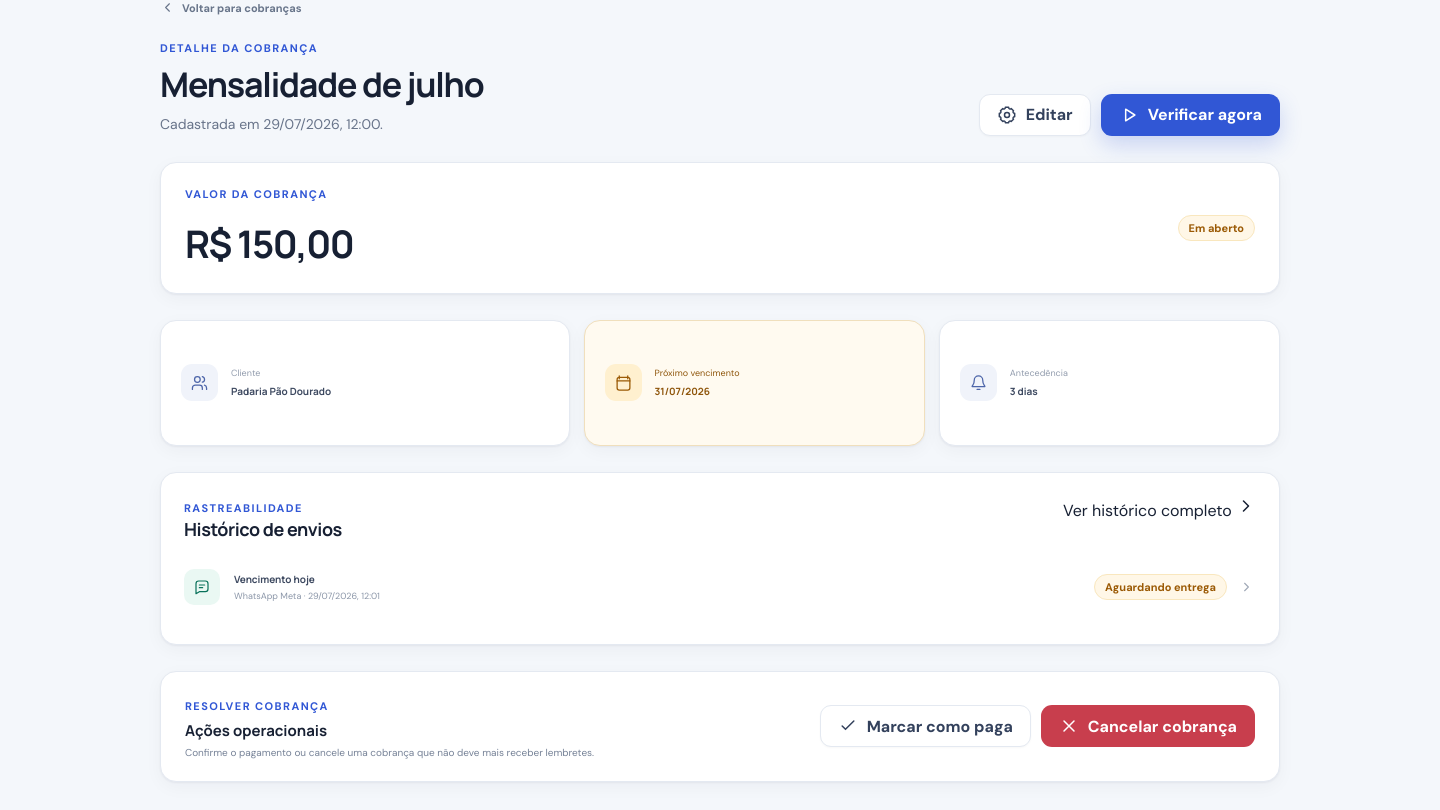
Scenario: confirma a verificação assíncrona e o pagamento
Expected: the link "Padaria Pão Dourado" is shown, [231,384,331,398]
Expected: the heading "Histórico de envios" is shown, [184,517,342,541]
Click the button "Verificar agora". click: x=1190, y=115
box: [1101,94,1280,136]
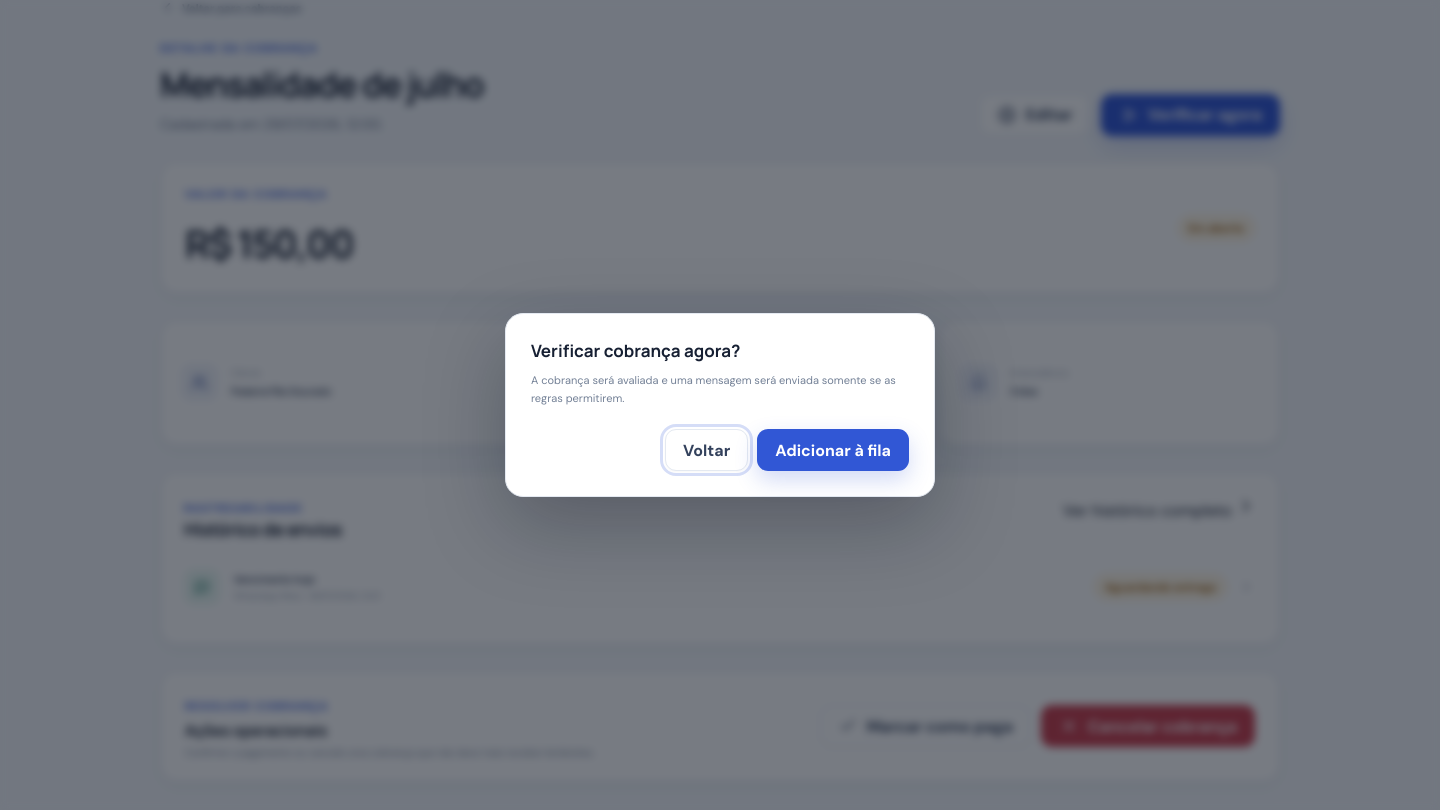
Now the dialog is shown, box [505,313,935,497]
Click the button "Adicionar à fila". click: x=833, y=450
box: [757,429,909,471]
(page scrolled)
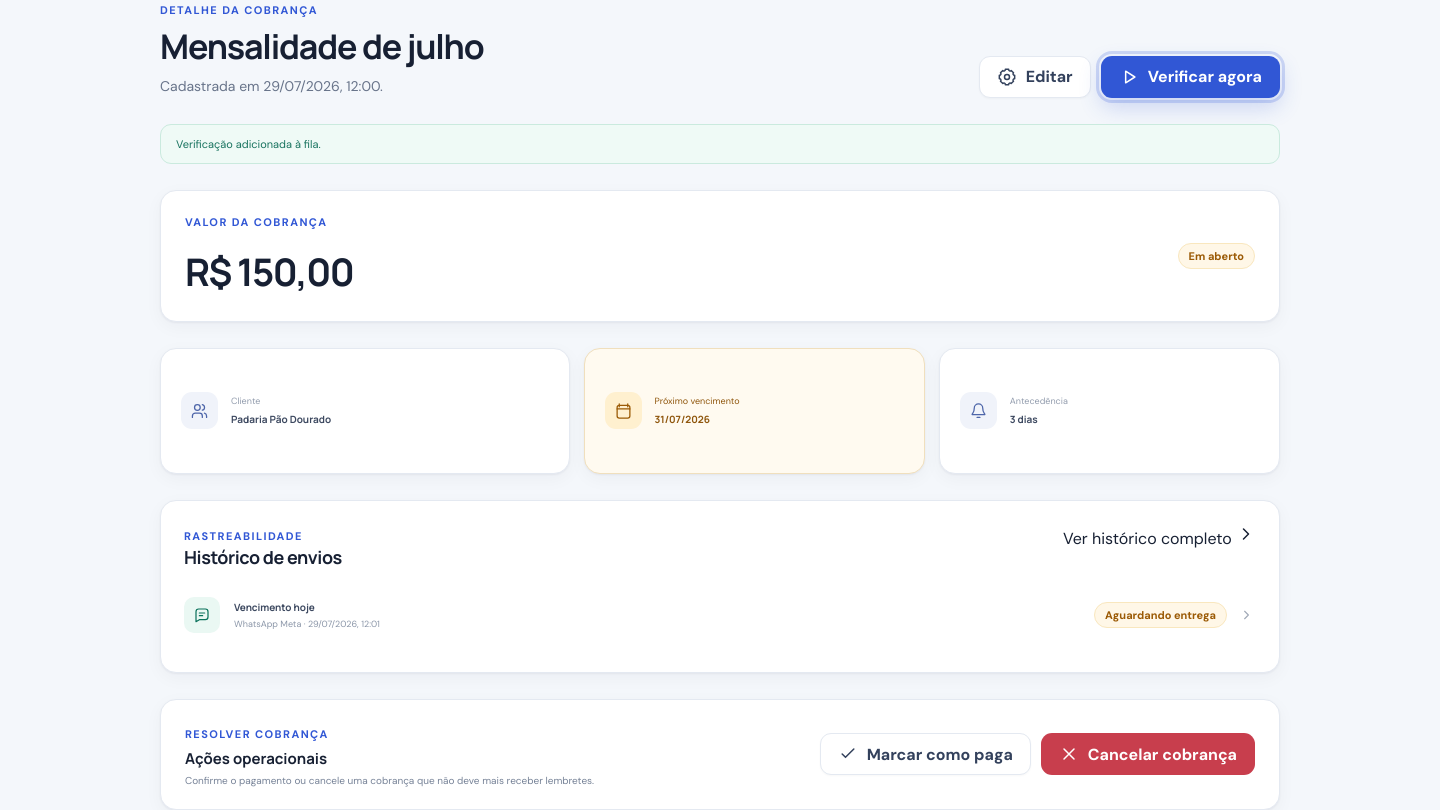
Now the text "Verificação adicionada à fila." is shown, box [160,124,1280,164]
Click the button "Marcar como paga". click: x=925, y=754
box: [820,733,1031,775]
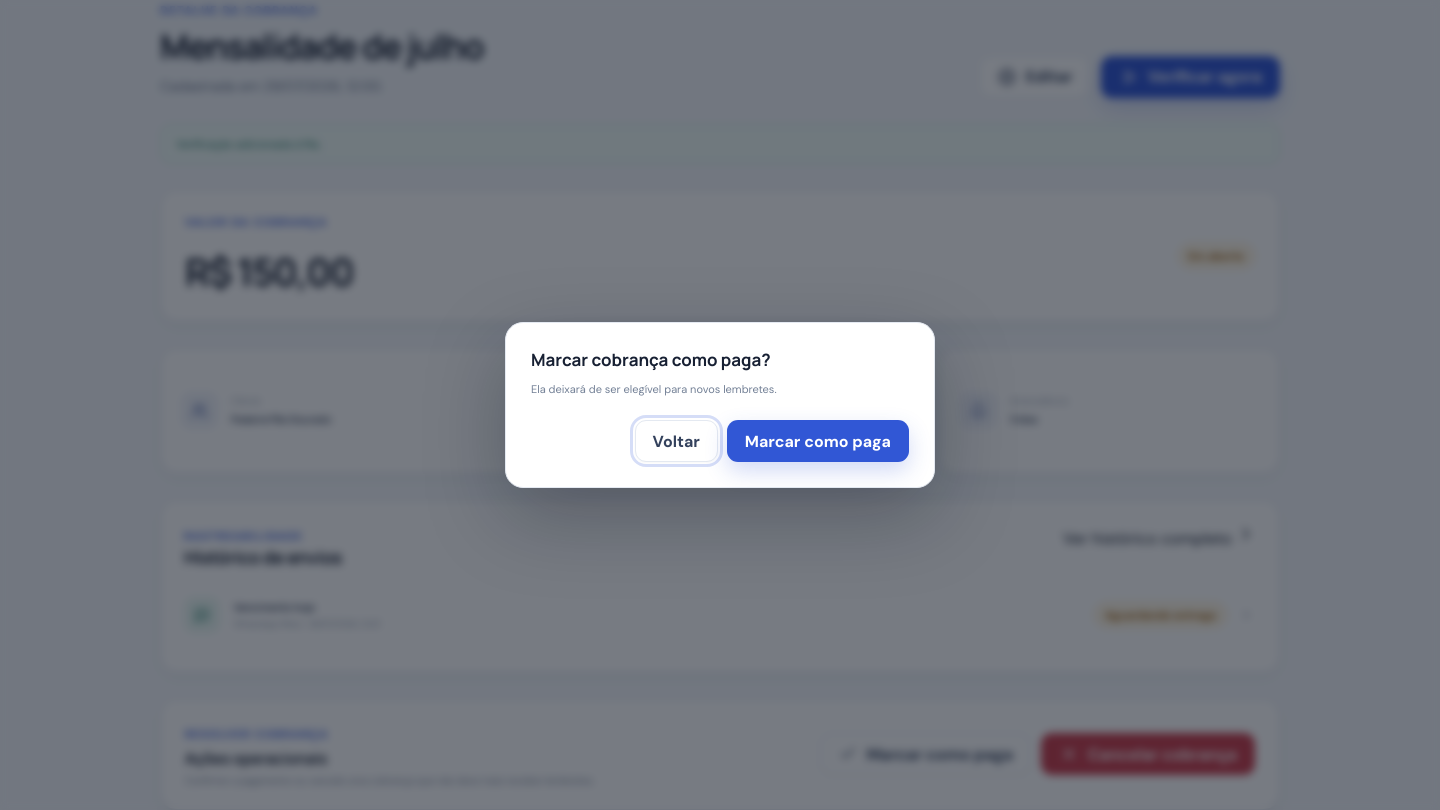
Click the button "Marcar como paga". click: x=818, y=441
box: [727,420,909,462]
(page scrolled)
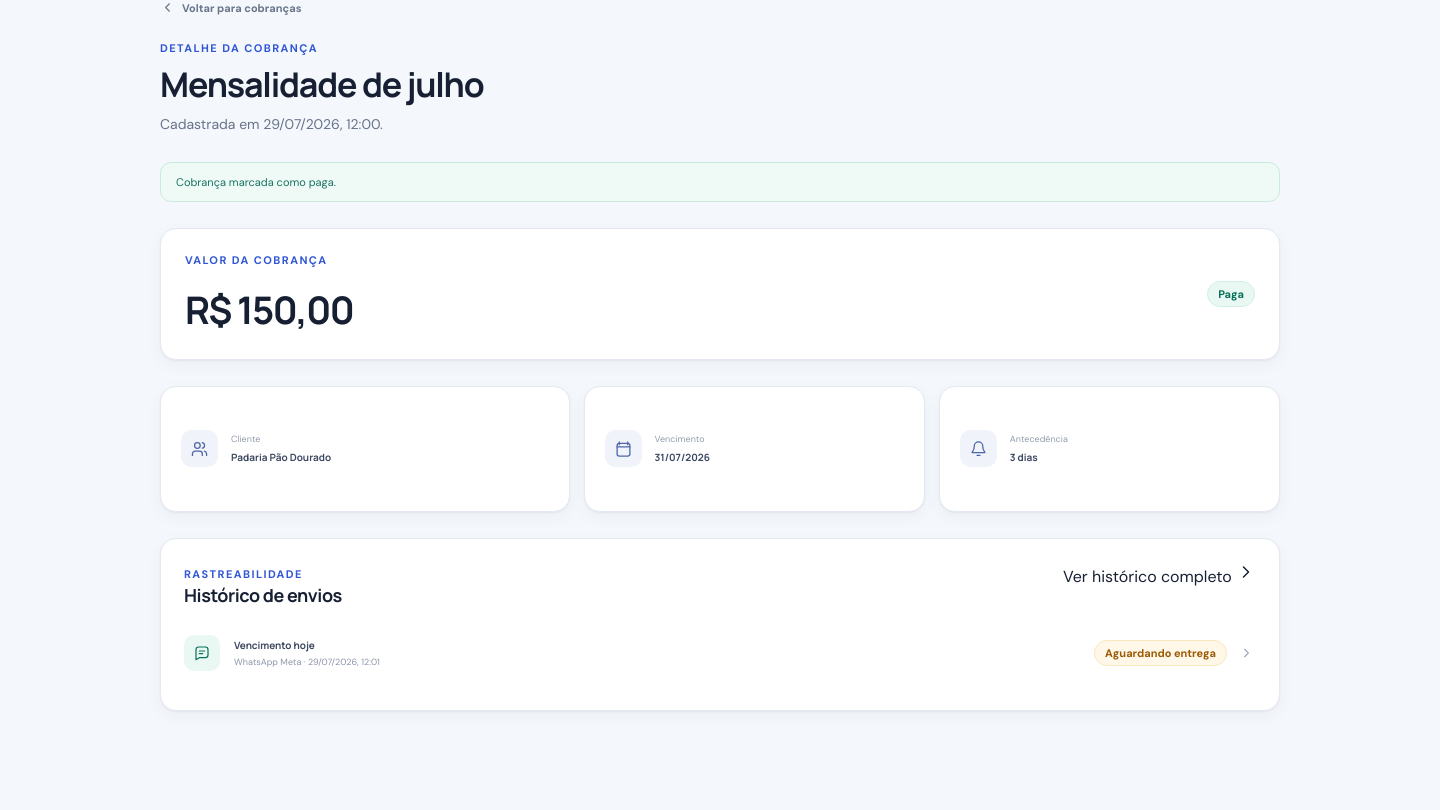
Now the text "Cobrança marcada como paga." is shown, box [160,162,1280,202]
